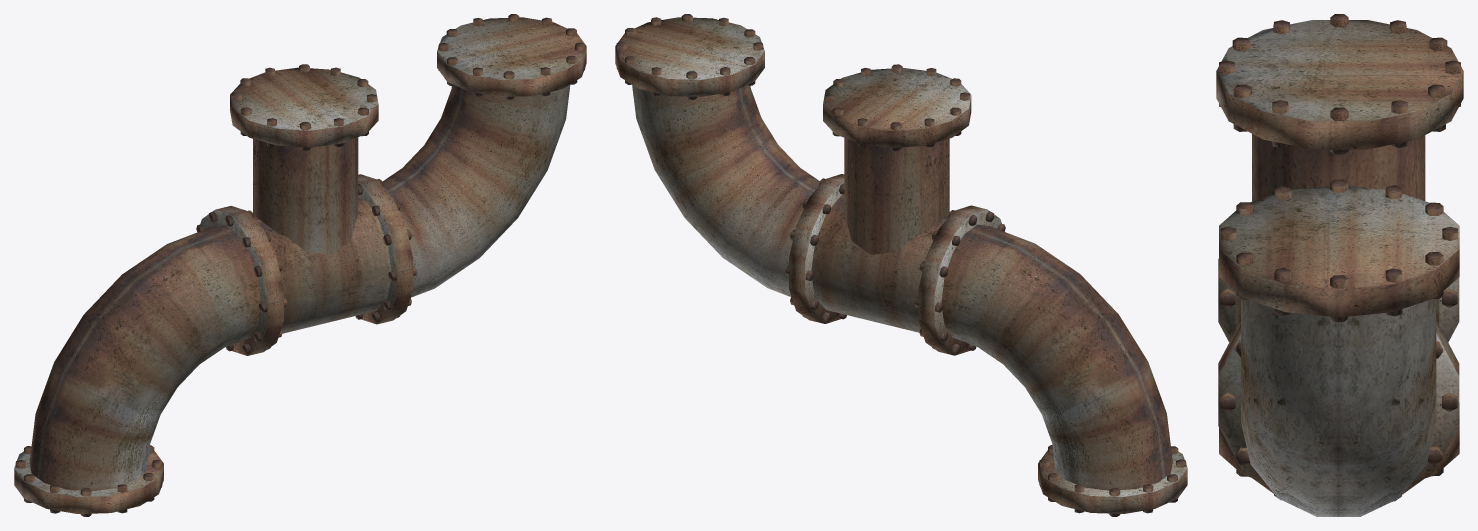
File: pipe_6.obj
3 views of the same model, side by side, from view 1: azimuth 30°, elevation 25°; view 2: azimuth 150°, elevation 25°; view 3: azimuth 270°, elevation 25° (orthographic). The views are drawn at different scales.
Visible parts, largest first — view 1: pipe_6.obj; view 2: pipe_6.obj; view 3: pipe_6.obj.
Part boxes in pixels (x1,y1,x2,y2): pipe_6.obj: [14, 14, 586, 516]; pipe_6.obj: [615, 14, 1187, 516]; pipe_6.obj: [1216, 14, 1463, 516].
Bounding box in the file's own units: 5.31 × 3.11 × 1.25.
1 material, 1 textured.
